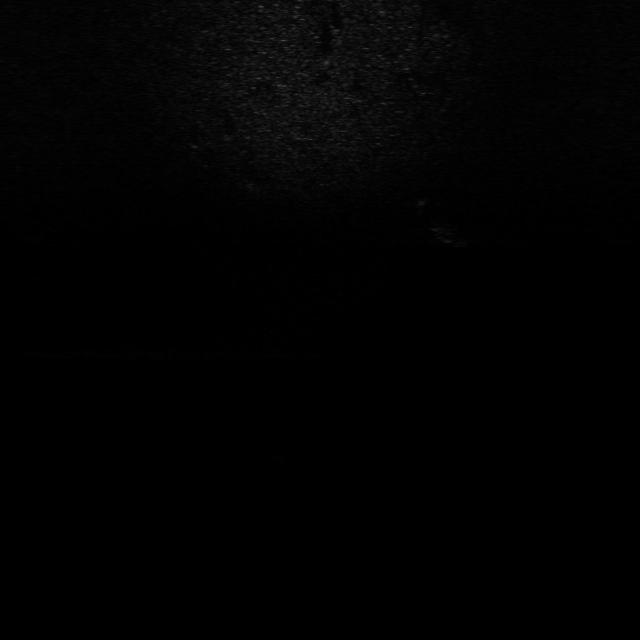human body: (413, 188, 476, 254)
